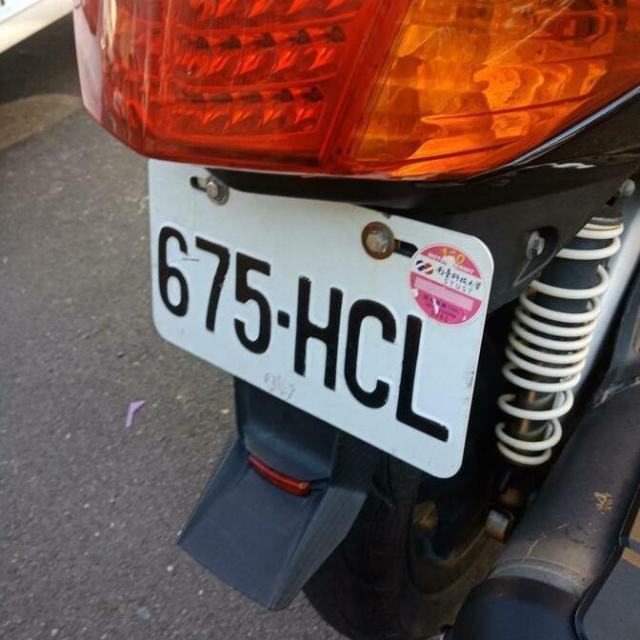W: (122, 148, 514, 475)
